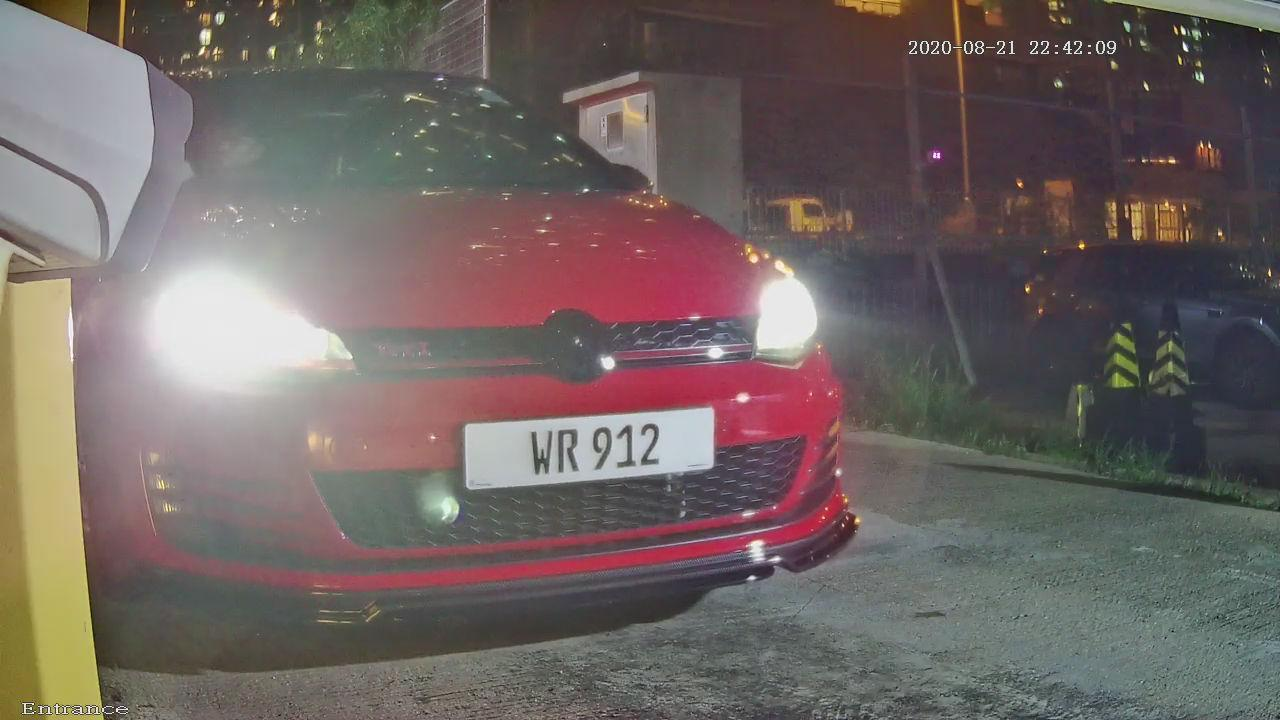Car: (6, 10, 932, 653)
License Plate: (427, 375, 769, 531)
